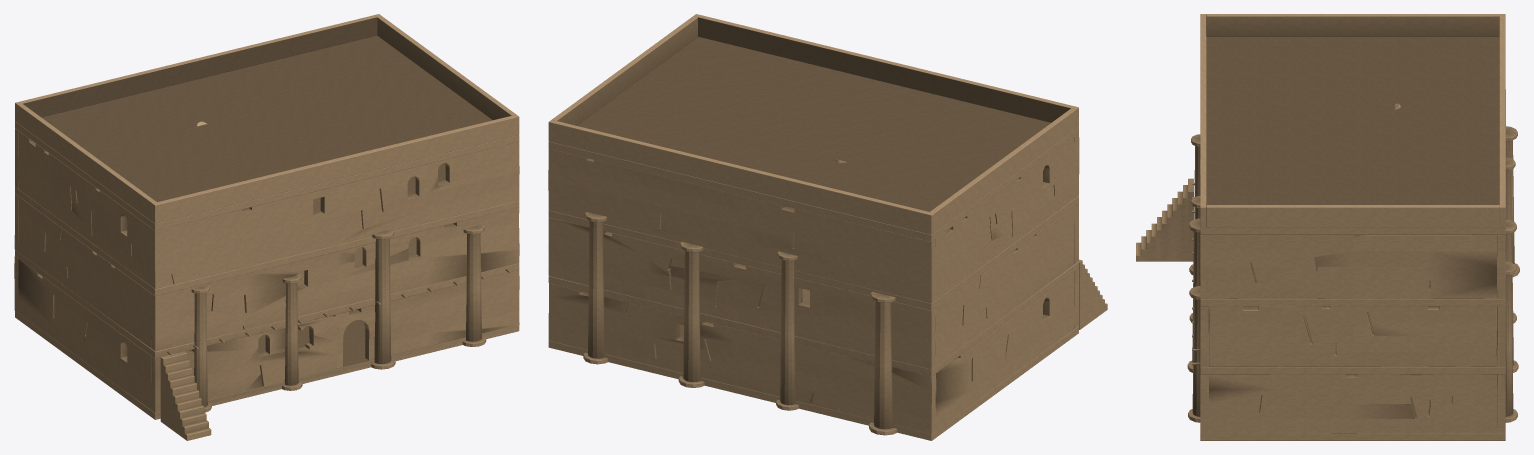
The model's file is block_28.glb.
The picture shows the model from 3 angles, left to right: view 1: azimuth 30°, elevation 25°; view 2: azimuth 150°, elevation 25°; view 3: azimuth 270°, elevation 25°; orthographic projection. The views are drawn at different scales.
Visible parts, largest first — view 1: block; view 2: block; view 3: block.
Part boxes in pixels (x1,y1,x2,y2): block: (14, 14, 519, 440); block: (548, 14, 1107, 440); block: (1136, 14, 1519, 440).
Bounding box in the file's own units: 22.46 × 12.64 × 18.79.
Materials: 1 (1 with a texture image).
